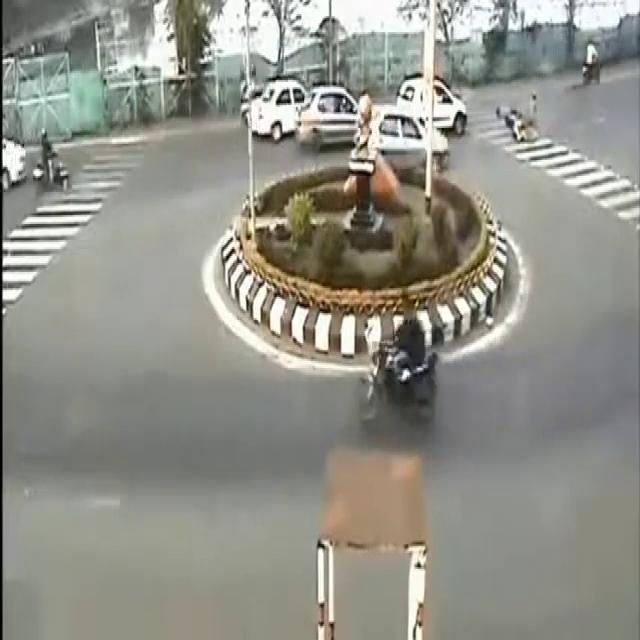accident: (495, 73, 557, 165)
